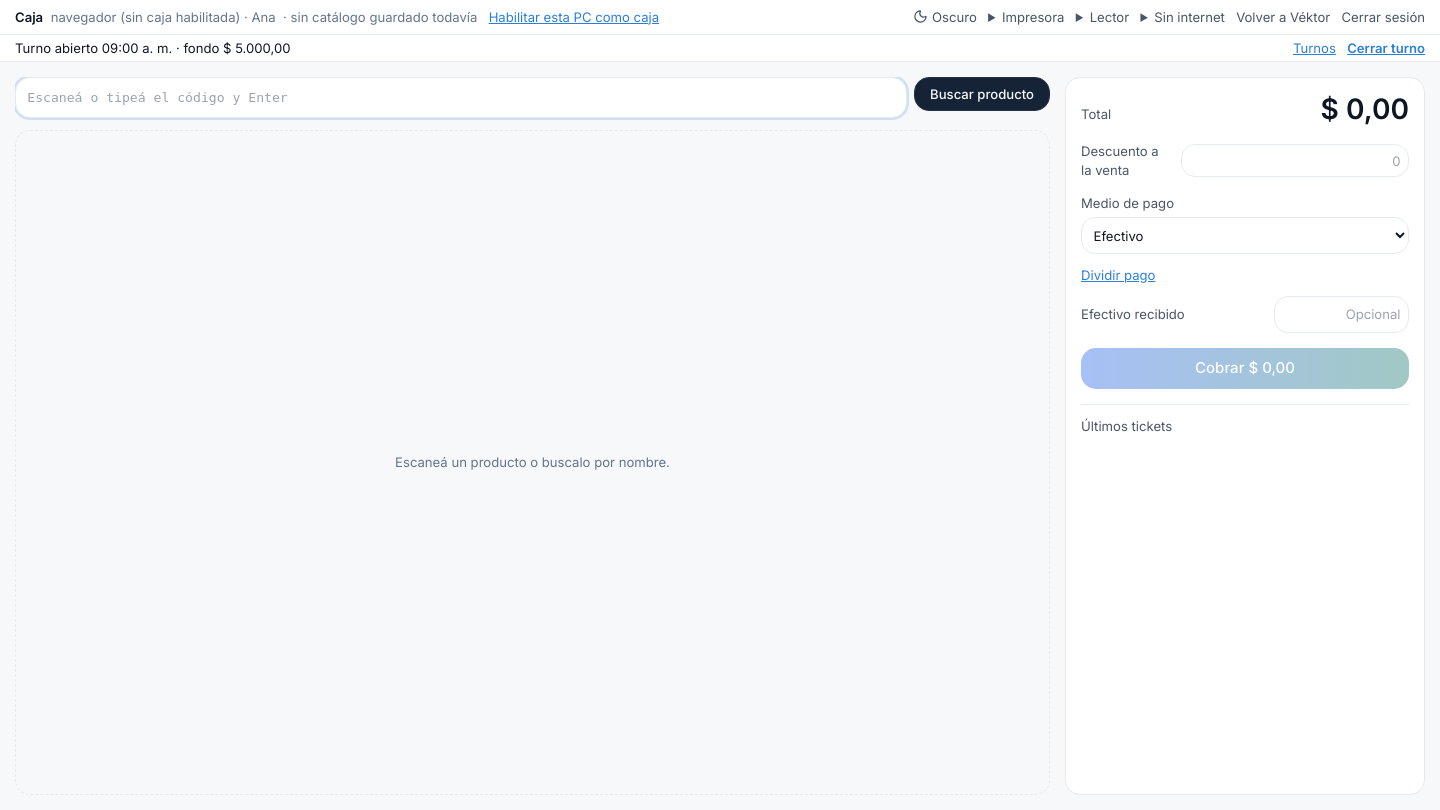
it: panel del encargado › cierra sin arqueo los elegidos, uno por request, con motivo obligatorio
Click the button "Turnos" at (1314, 48), box [1293,38,1336,57]
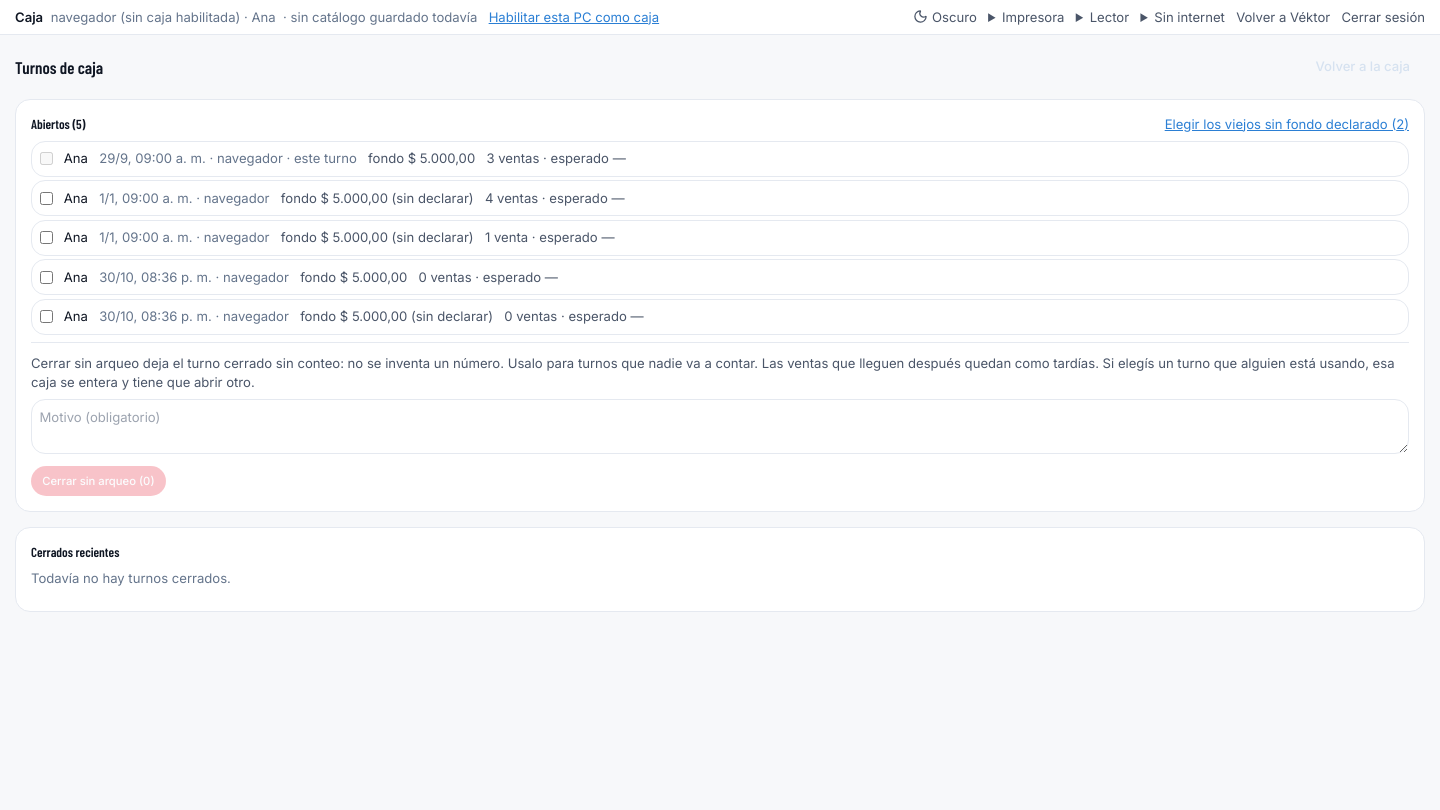
Check: the element with test id "turnos-panel" is shown
Click the button "Elegir los viejos sin fondo declarado (2)" at (1287, 124), box [1165,114,1409,133]
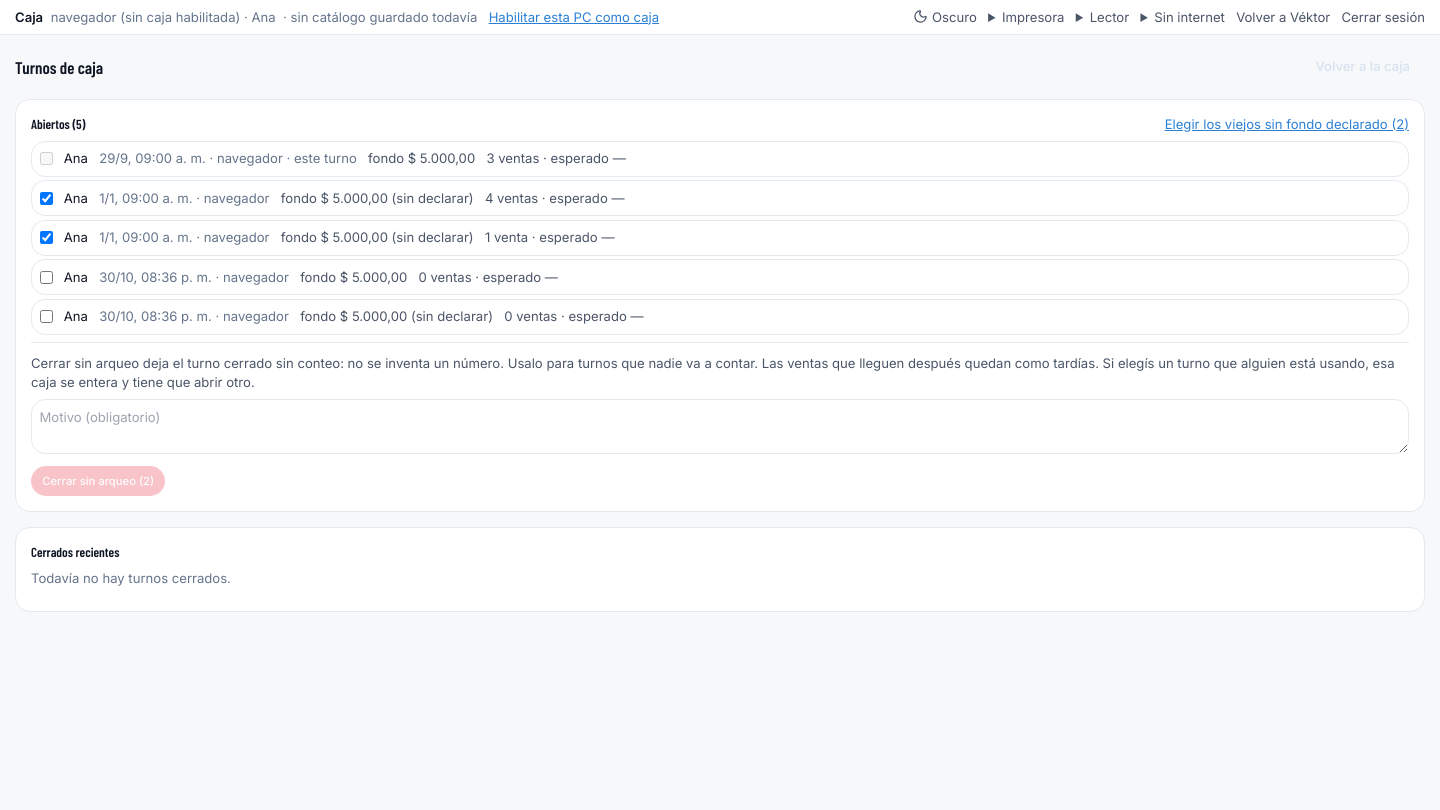
Check: the button "Cerrar sin arqueo (2)" is disabled, box [31,466,166,496]
Type "Turnos de recargas de la pantalla" into the text box named "Motivo del cierre sin arqueo" at (720, 427), box [31,399,1409,454]
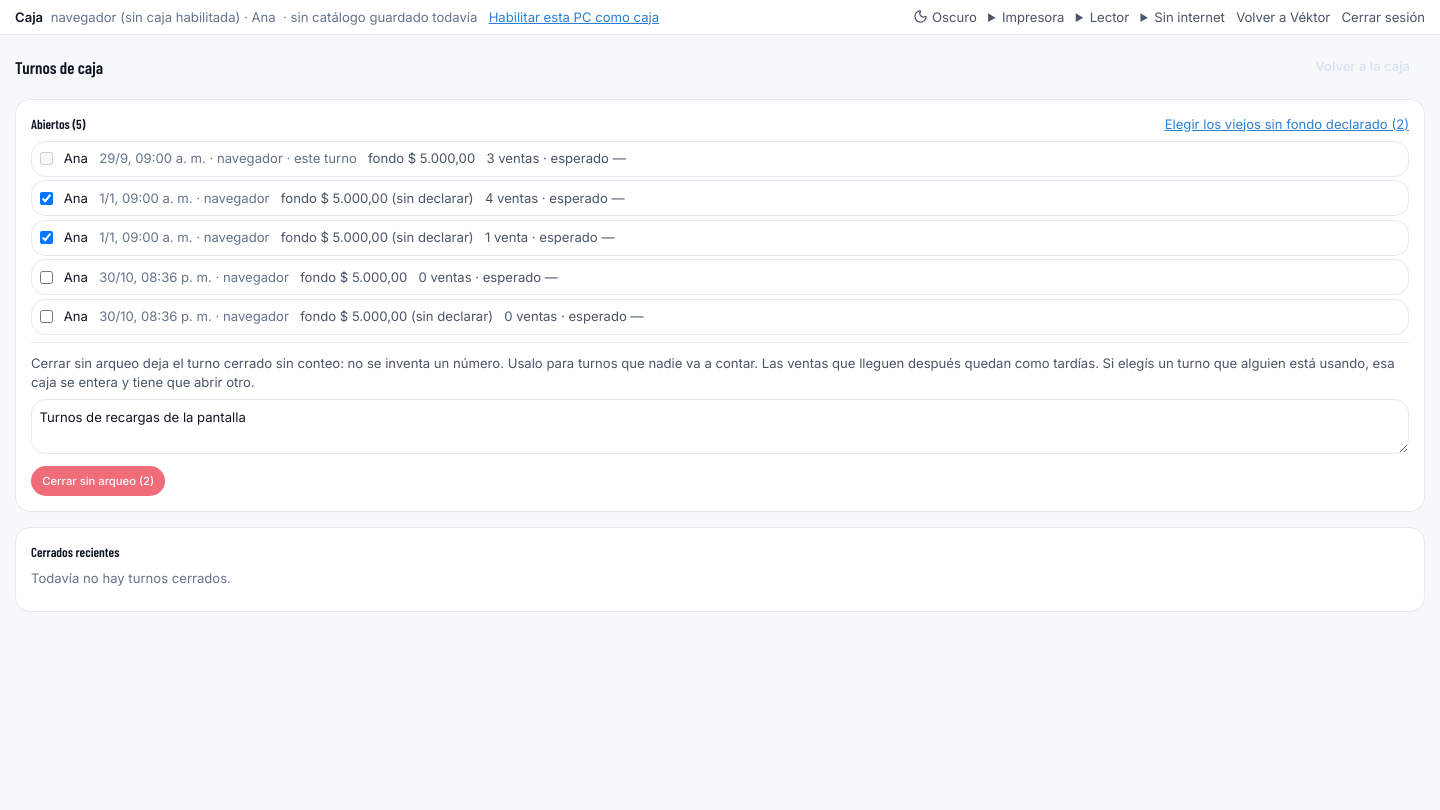
Click the button "Cerrar sin arqueo (2)" at (98, 481), box [31,466,166,496]
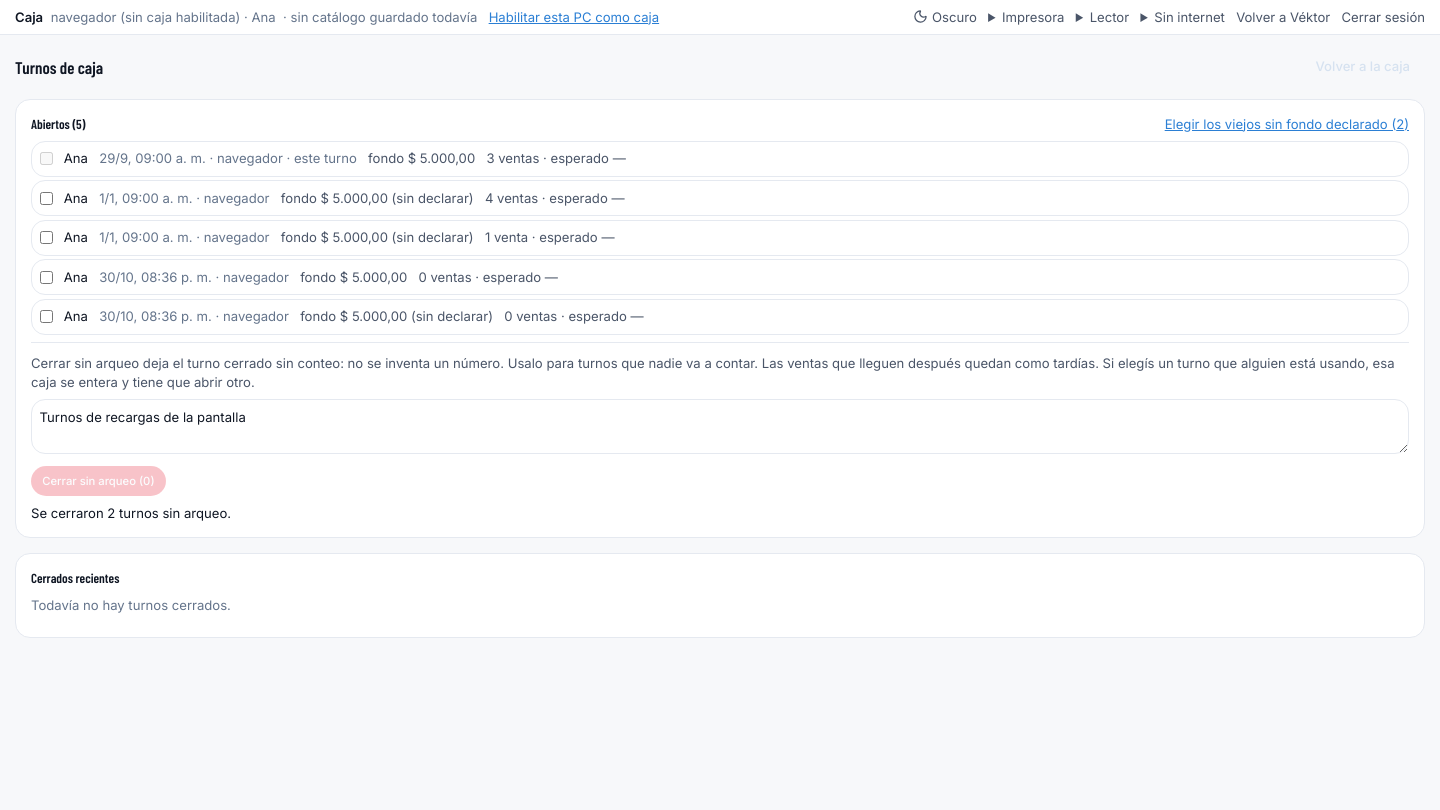
Check: the text "Se cerraron 2 turnos sin arqueo." is shown, box [31,504,231,520]
